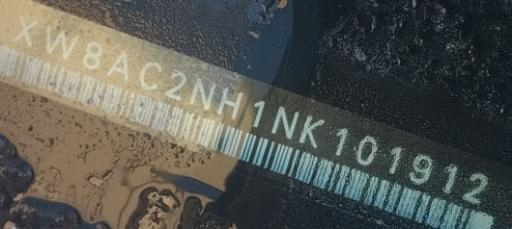letter: (45, 25, 79, 61), (188, 75, 216, 113), (270, 104, 300, 139), (215, 84, 243, 121), (298, 114, 326, 151), (12, 13, 40, 50), (461, 171, 489, 207), (104, 49, 132, 84), (408, 152, 434, 184), (163, 69, 187, 102), (355, 134, 379, 166), (139, 60, 163, 91), (80, 40, 104, 70), (442, 162, 458, 195), (250, 98, 266, 129), (386, 144, 402, 175), (334, 125, 348, 157)
